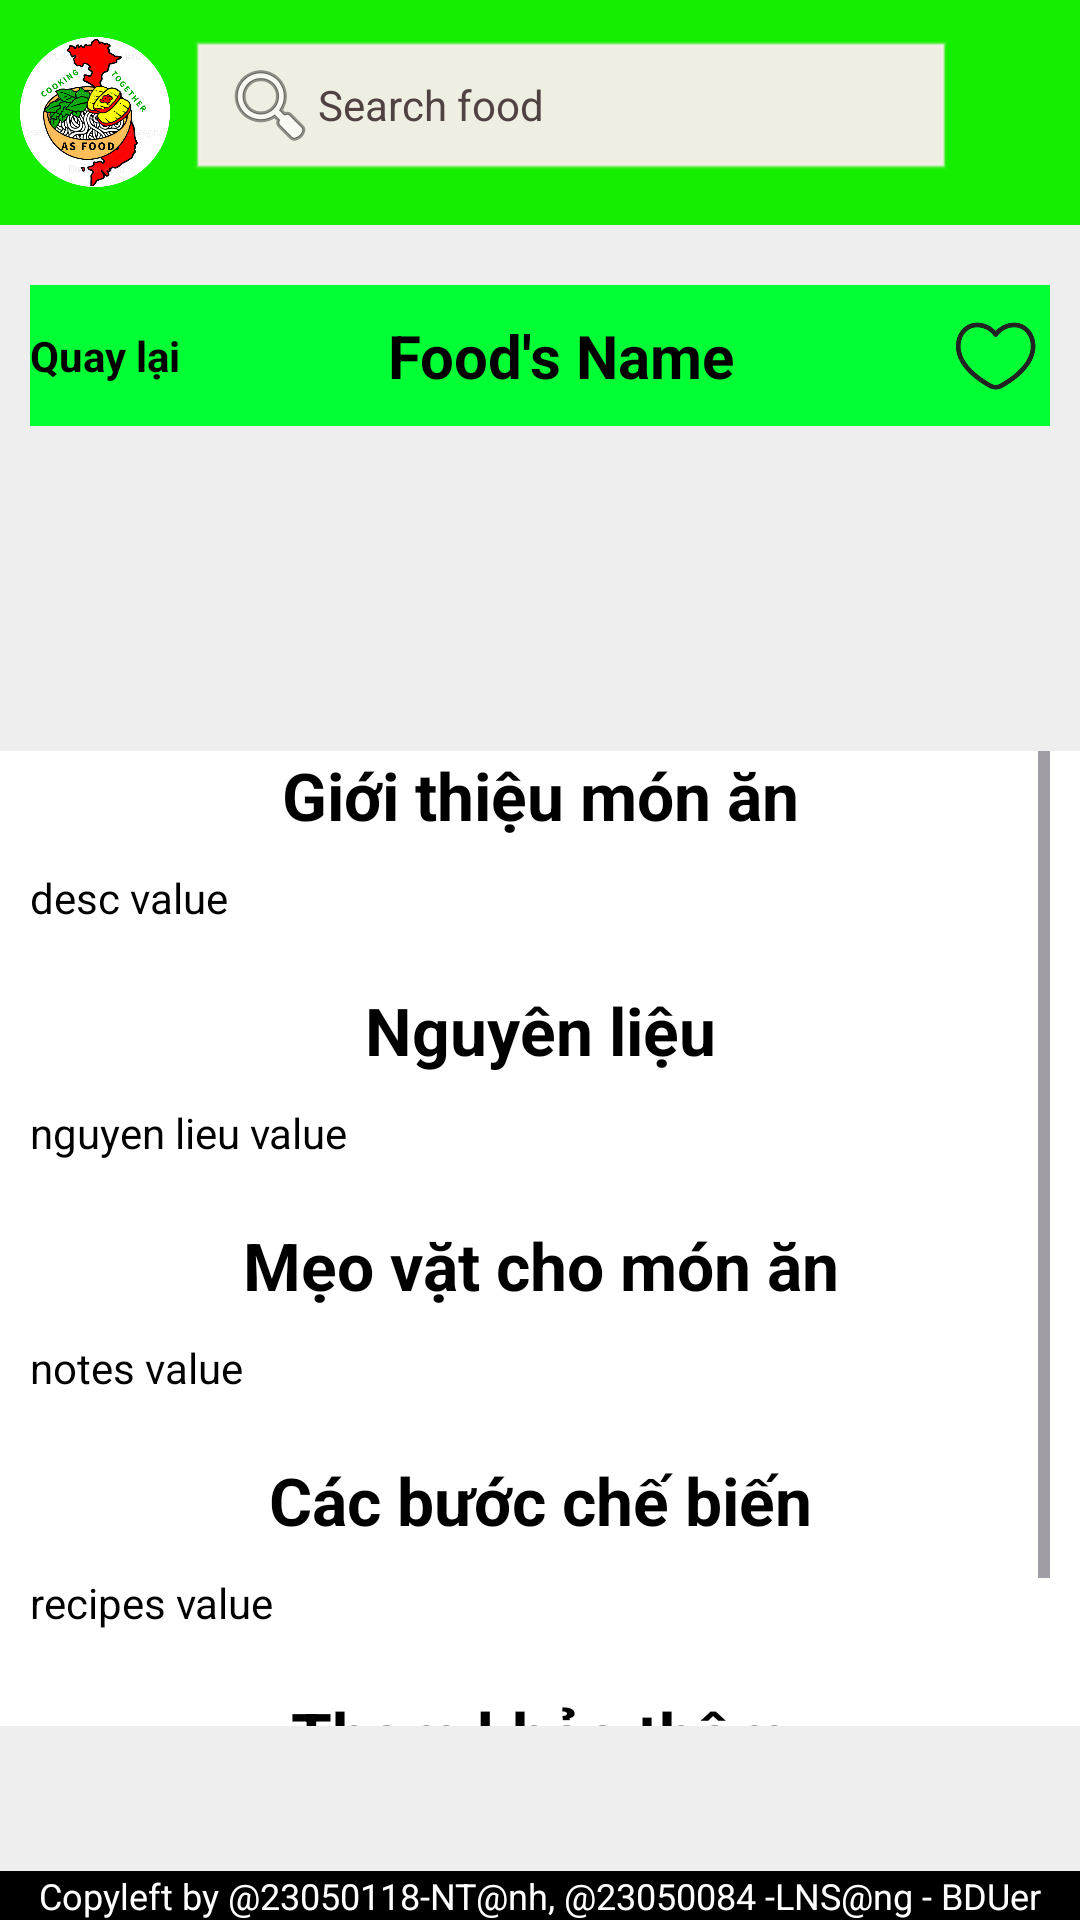

Icons on this 1080w x 1920h Android screen, each with its box as (x1, y1, x2, y2):
favorite: (956, 322, 1036, 390)
